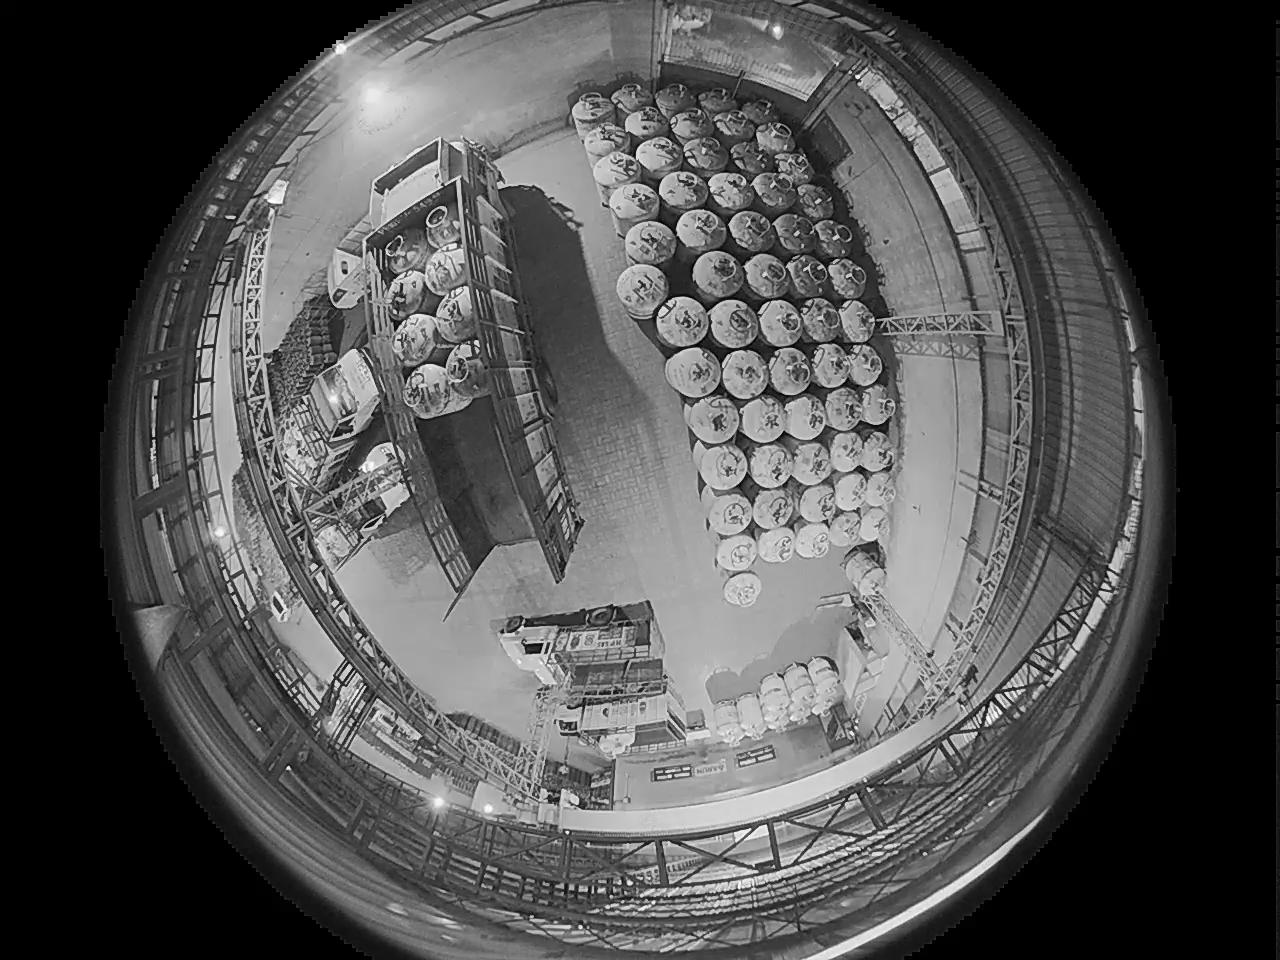cylinder: (616, 265, 671, 319), (665, 346, 722, 398), (654, 296, 710, 349), (592, 150, 644, 206), (392, 313, 443, 367), (401, 363, 452, 418), (691, 250, 744, 302), (609, 186, 659, 239), (684, 394, 739, 444), (432, 285, 480, 341), (708, 298, 759, 349), (720, 348, 769, 398), (443, 342, 490, 395), (756, 298, 805, 348), (625, 220, 676, 267), (424, 243, 469, 297), (742, 252, 791, 301), (739, 394, 787, 443), (675, 208, 727, 253), (658, 169, 710, 215), (805, 655, 844, 716), (698, 442, 747, 489), (747, 441, 794, 489), (635, 136, 684, 183), (766, 346, 812, 394), (386, 268, 430, 319), (386, 226, 430, 276), (706, 170, 754, 215), (727, 209, 775, 253), (782, 661, 818, 719), (782, 393, 827, 440), (784, 254, 829, 299), (570, 95, 616, 140), (808, 342, 853, 388), (582, 123, 628, 167), (771, 213, 816, 257), (707, 492, 753, 535), (798, 296, 842, 343), (750, 171, 796, 215), (752, 485, 796, 529), (789, 442, 833, 487), (683, 136, 731, 177), (758, 672, 792, 728), (313, 523, 354, 570), (825, 256, 868, 298), (823, 387, 864, 432), (796, 482, 838, 524), (909, 130, 948, 174), (624, 107, 670, 144), (812, 219, 855, 259), (845, 344, 884, 387), (425, 203, 462, 249), (838, 299, 877, 342), (715, 533, 758, 572), (669, 108, 714, 144), (858, 385, 896, 427), (773, 150, 814, 189), (858, 431, 896, 472), (712, 110, 754, 147), (828, 431, 866, 473), (610, 82, 652, 119), (794, 183, 835, 221), (755, 120, 796, 157), (733, 143, 775, 179), (757, 526, 797, 564), (722, 571, 762, 608), (830, 471, 868, 511), (655, 83, 695, 119), (713, 699, 744, 745), (793, 522, 831, 560), (842, 546, 879, 584), (861, 471, 897, 510), (737, 691, 766, 737), (827, 509, 863, 548), (510, 389, 544, 429), (857, 505, 890, 545), (697, 88, 737, 119), (598, 729, 637, 759), (740, 98, 777, 128), (856, 565, 888, 596), (692, 440, 718, 478)
truck: (363, 136, 584, 613), (496, 600, 664, 673), (533, 686, 708, 749), (284, 375, 383, 471), (325, 221, 373, 308)
